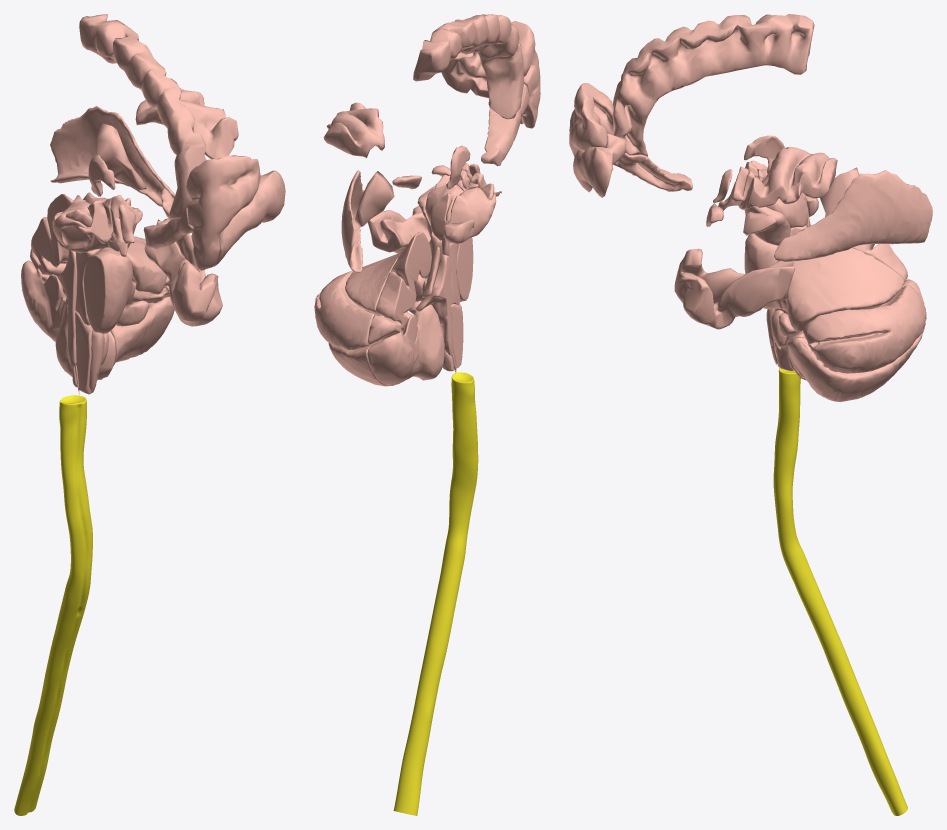
Rendered from female-a-organ-6.glb.
3 views of the same model, side by side, from view 1: azimuth 30°, elevation 25°; view 2: azimuth 150°, elevation 25°; view 3: azimuth 270°, elevation 25° (orthographic). The views are drawn at different scales.
Visible parts, largest first — view 1: Allen_posteroventral_putamen_R, Allen_rostral_gyrus_R, Allen_paravermis_of_cerebellum_R, Allen_frontal_pole_R, Allen_lateral_hemisphere_of_cerebellum_R, Allen_frontomarginal_gyrus_R, Allen_basilar_part_of_pons_R, Allen_parietal_operculum_R, Allen_paracingulate_gyrus_R, Allen_perirhinal_gyrus_rostral_part_of_FuGt_R, Allen_midbrain_tegmentum_L, Allen_tegmentum_of_medulla_oblongata_R (+19 smaller); view 2: Allen_paravermis_of_cerebellum_R, Allen_posteroventral_putamen_R, Allen_lateral_hemisphere_of_cerebellum_R, Allen_parietal_operculum_R, Allen_frontomarginal_gyrus_R, Allen_atrium_of_lateral_ventricle_R, Allen_frontal_pole_R, Allen_rostral_gyrus_R, Allen_fourth_ventricle_R, Allen_paracingulate_gyrus_R, Allen_midbrain_tegmentum_L, VH_F_third_thoracic_spinal_cord_segment (+17 smaller); view 3: Allen_lateral_hemisphere_of_cerebellum_R, Allen_posteroventral_putamen_R, Allen_frontal_pole_R, Allen_frontomarginal_gyrus_R, Allen_parietal_operculum_R, Allen_rostral_gyrus_R, Allen_paracingulate_gyrus_R, Allen_atrium_of_lateral_ventricle_R, VH_F_first_thoracic_spinal_cord_segment, Allen_basilar_part_of_pons_R, VH_F_third_thoracic_spinal_cord_segment, VH_F_second_thoracic_spinal_cord_segment (+12 smaller).
Boxes of the visible parts, bbox=[...] form: Allen_posteroventral_putamen_R: bbox=[79, 14, 206, 220]; Allen_rostral_gyrus_R: bbox=[186, 155, 260, 270]; Allen_paravermis_of_cerebellum_R: bbox=[21, 194, 115, 380]; Allen_frontal_pole_R: bbox=[50, 106, 175, 206]; Allen_lateral_hemisphere_of_cerebellum_R: bbox=[65, 236, 174, 365]; Allen_frontomarginal_gyrus_R: bbox=[144, 219, 222, 326]; Allen_basilar_part_of_pons_R: bbox=[83, 247, 132, 333]; Allen_parietal_operculum_R: bbox=[135, 88, 238, 159]; Allen_paracingulate_gyrus_R: bbox=[213, 170, 285, 266]; Allen_perirhinal_gyrus_rostral_part_of_FuGt_R: bbox=[97, 123, 146, 190]; Allen_midbrain_tegmentum_L: bbox=[53, 195, 94, 253]; Allen_tegmentum_of_medulla_oblongata_R: bbox=[72, 311, 101, 394]; Allen_paravermis_of_cerebellum_R: bbox=[367, 231, 444, 385]; Allen_posteroventral_putamen_R: bbox=[413, 14, 524, 119]; Allen_lateral_hemisphere_of_cerebellum_R: bbox=[314, 251, 420, 386]; Allen_parietal_operculum_R: bbox=[323, 102, 384, 157]; Allen_frontomarginal_gyrus_R: bbox=[367, 206, 430, 253]; Allen_atrium_of_lateral_ventricle_R: bbox=[481, 83, 529, 166]; Allen_frontal_pole_R: bbox=[341, 170, 364, 273]; Allen_rostral_gyrus_R: bbox=[473, 21, 540, 128]; Allen_fourth_ventricle_R: bbox=[416, 254, 453, 355]; Allen_paracingulate_gyrus_R: bbox=[441, 52, 523, 124]; Allen_midbrain_tegmentum_L: bbox=[447, 187, 496, 243]; VH_F_third_thoracic_spinal_cord_segment: bbox=[393, 756, 424, 815]; Allen_lateral_hemisphere_of_cerebellum_R: bbox=[779, 248, 926, 402]; Allen_posteroventral_putamen_R: bbox=[613, 14, 814, 156]; Allen_frontal_pole_R: bbox=[774, 170, 932, 261]; Allen_frontomarginal_gyrus_R: bbox=[674, 248, 794, 329]; Allen_parietal_operculum_R: bbox=[741, 146, 837, 210]; Allen_rostral_gyrus_R: bbox=[569, 83, 614, 168]; Allen_paracingulate_gyrus_R: bbox=[573, 133, 626, 197]; Allen_atrium_of_lateral_ventricle_R: bbox=[613, 153, 692, 191]; VH_F_first_thoracic_spinal_cord_segment: bbox=[831, 657, 868, 719]; Allen_basilar_part_of_pons_R: bbox=[744, 233, 783, 309]; VH_F_third_thoracic_spinal_cord_segment: bbox=[870, 756, 907, 815]; VH_F_second_thoracic_spinal_cord_segment: bbox=[851, 709, 887, 766].
Bounding box in the file's own units: 0.0625 × 0.2866 × 0.1169.
